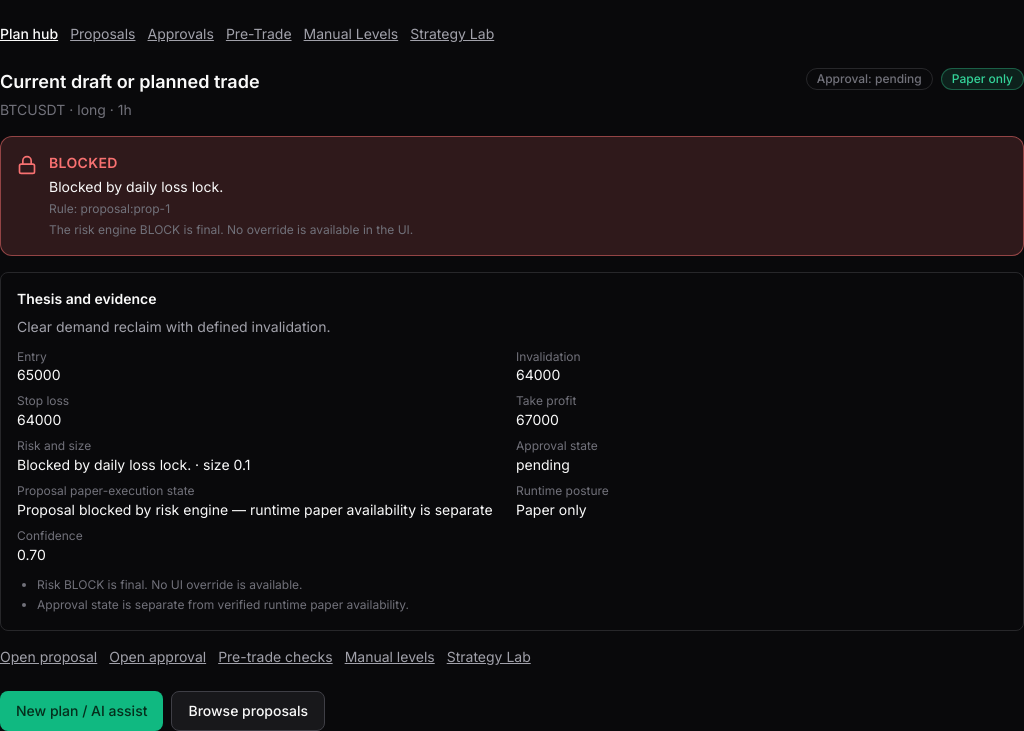
Scenario: Plan hub Phase C1 corrections › keeps AI assist behind progressive disclosure
(page scrolled)
What coordinates should you click on to do the following:
click the button "New plan / AI assist"
I would click on:
 (82, 711)
Its box is [0,691,164,730].
(page scrolled)
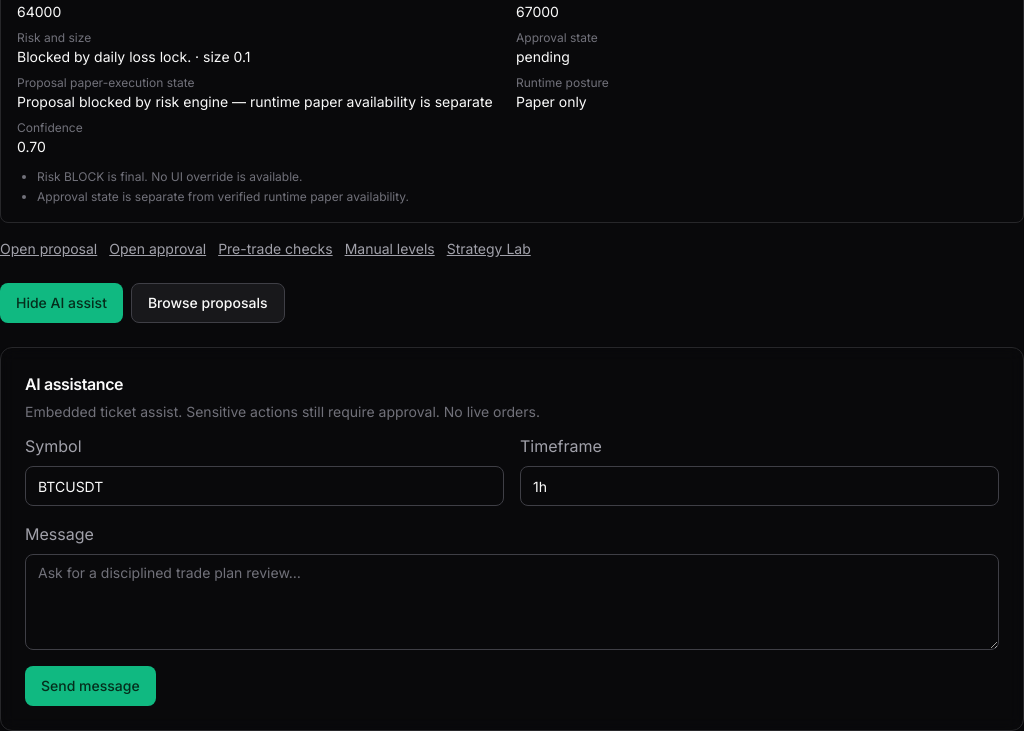
Now the element with test id "plan-hub-ai-assist" is shown, box [0,347,1023,730]
